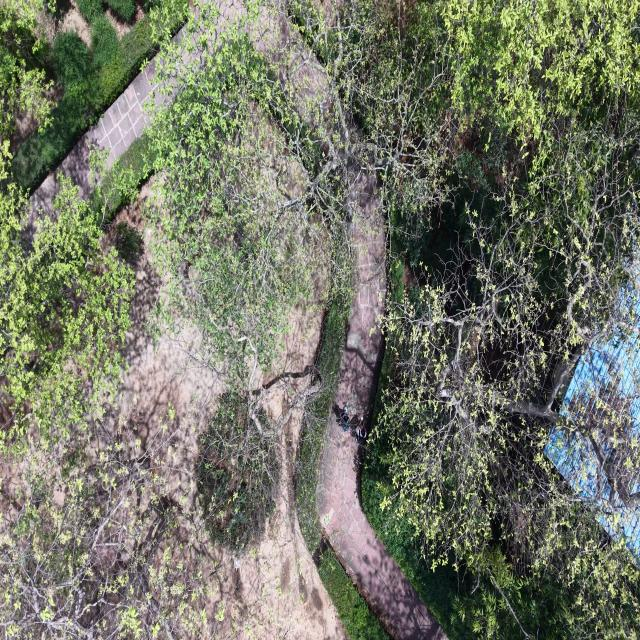DRY_AREA: (54, 187, 348, 639), (107, 187, 348, 639), (116, 187, 348, 639), (184, 304, 348, 639), (116, 187, 221, 457), (230, 410, 348, 639), (30, 58, 169, 219), (30, 58, 169, 217), (30, 58, 169, 215), (30, 58, 168, 214), (30, 61, 156, 214), (335, 155, 386, 422), (335, 175, 386, 418), (335, 175, 385, 422), (336, 171, 385, 419), (93, 61, 155, 165), (36, 0, 91, 50), (37, 0, 90, 47), (49, 0, 90, 47)
PATHWAYS: (335, 156, 386, 420), (335, 172, 385, 419)
ROOFTOP_BUILDING: (546, 329, 639, 558)
VEGETATION_TREE: (0, 0, 639, 638), (292, 2, 639, 637), (0, 9, 348, 637), (0, 30, 345, 637), (33, 8, 341, 549), (148, 7, 349, 553), (147, 5, 348, 550), (0, 147, 211, 638), (148, 6, 343, 387), (0, 179, 133, 638), (150, 36, 322, 374), (0, 396, 223, 639), (0, 146, 133, 455), (0, 179, 133, 454), (11, 0, 188, 191), (296, 298, 388, 639), (360, 438, 476, 639), (361, 443, 477, 639), (197, 391, 279, 553), (296, 298, 348, 553), (0, 0, 52, 152), (317, 547, 388, 640), (89, 133, 152, 225), (53, 31, 93, 92), (91, 16, 120, 67), (78, 0, 135, 24), (114, 222, 143, 265), (77, 0, 104, 24), (108, 0, 135, 20)
